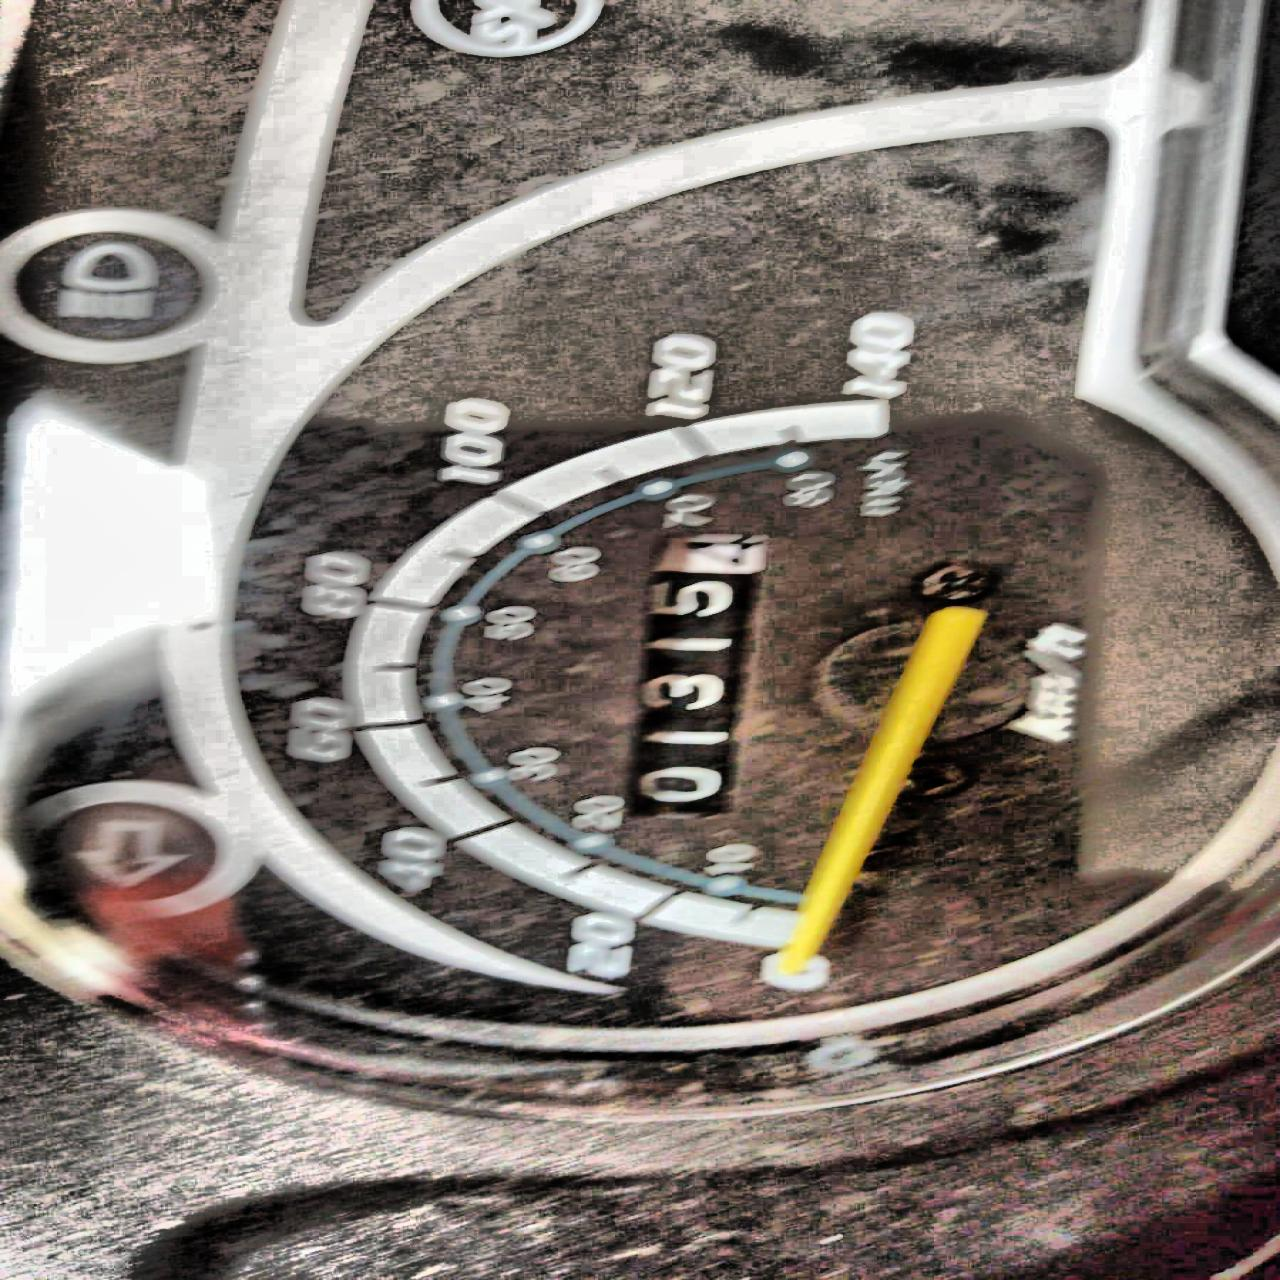0: (634, 762, 727, 804)
1: (634, 631, 740, 655), (638, 726, 735, 749)
3: (636, 670, 727, 712)
4: (670, 529, 767, 567)
5: (638, 576, 737, 615)
odometer: (622, 525, 770, 822)
